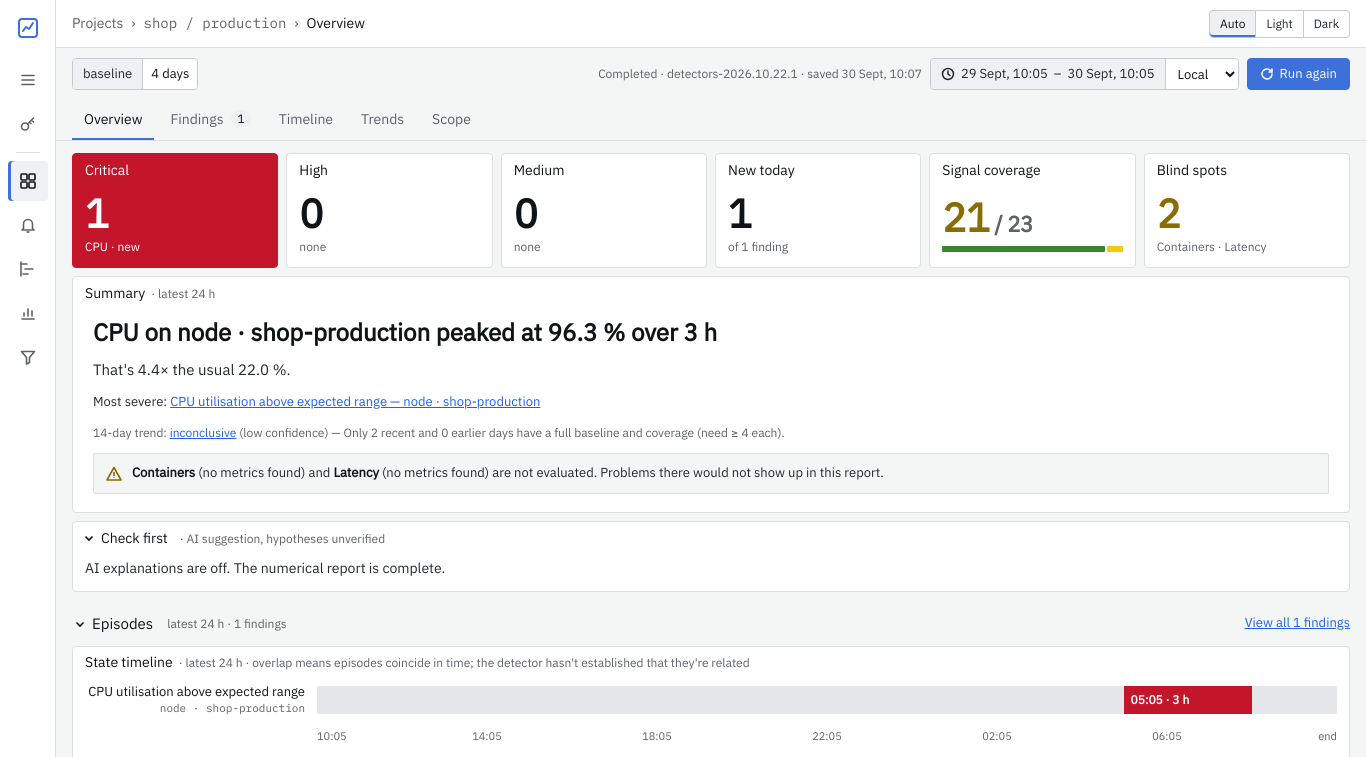
Test: report › short history marks missing baselines and unsupported latency
The width and height of the screenshot is (1366, 757).
Click the tab "Trends" at coordinates (383, 119), box [361,110,404,128]
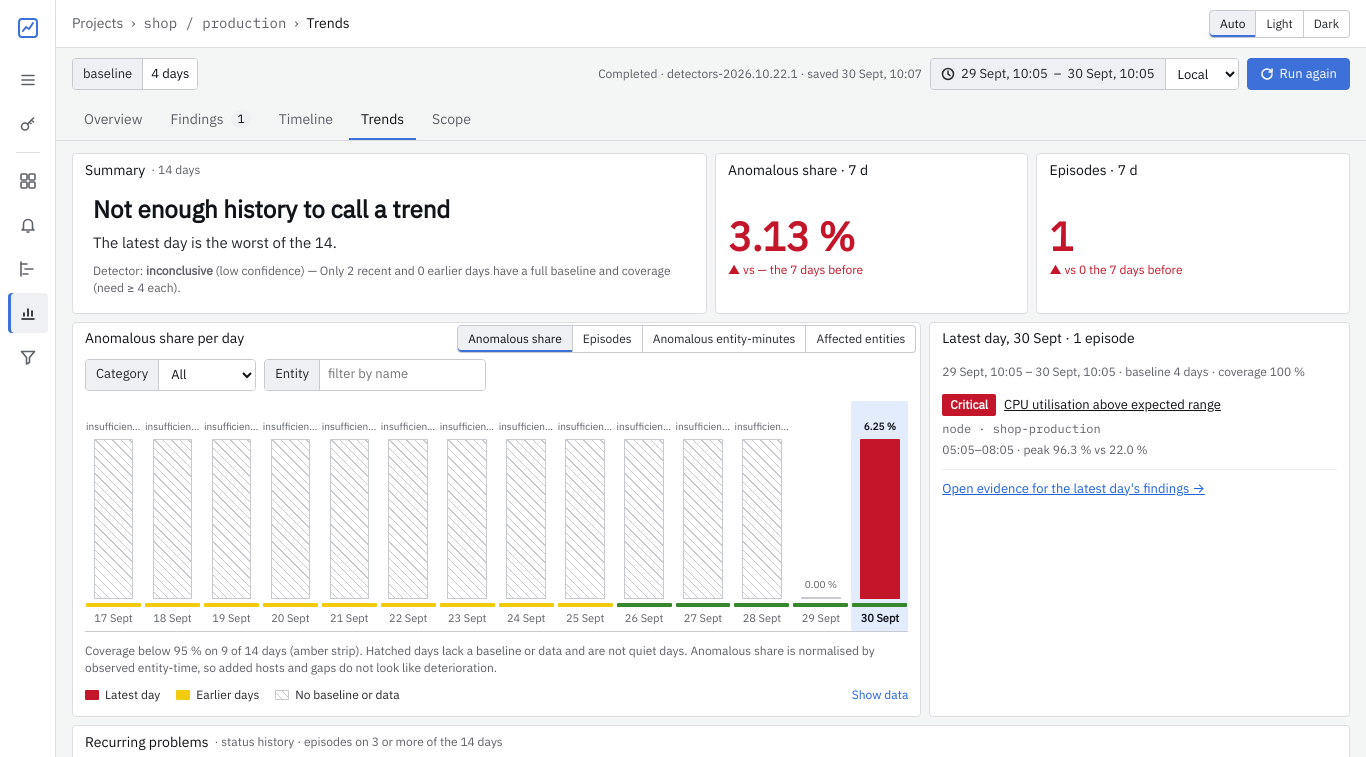
expect the text "inconclusive" is shown: met, box [146,263,213,278]
expect the text "insufficient baseline" is shown 3 times: met, box [617,420,672,435]; [676,420,730,435]; [734,420,790,435]
expect the text "insufficient data" is shown 9 times: met
